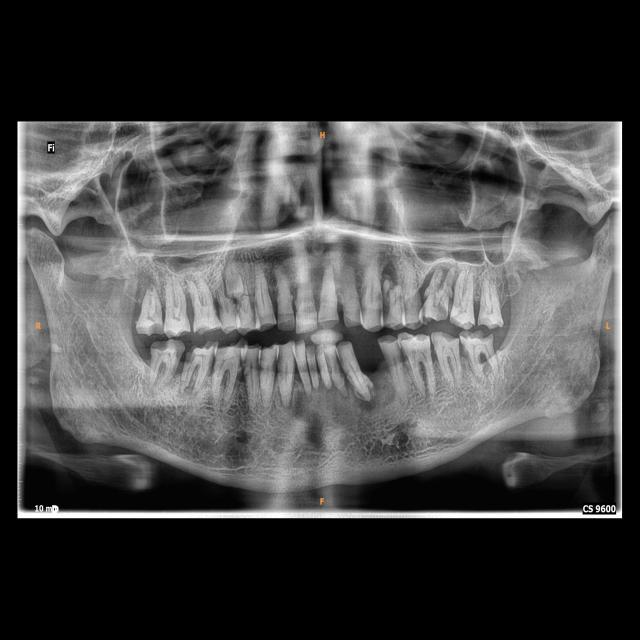dentin-curugu: (423, 287, 450, 323), (381, 278, 398, 328), (136, 309, 163, 339), (186, 338, 218, 363), (463, 326, 495, 350), (147, 338, 185, 357), (225, 288, 245, 319), (466, 346, 493, 368)
